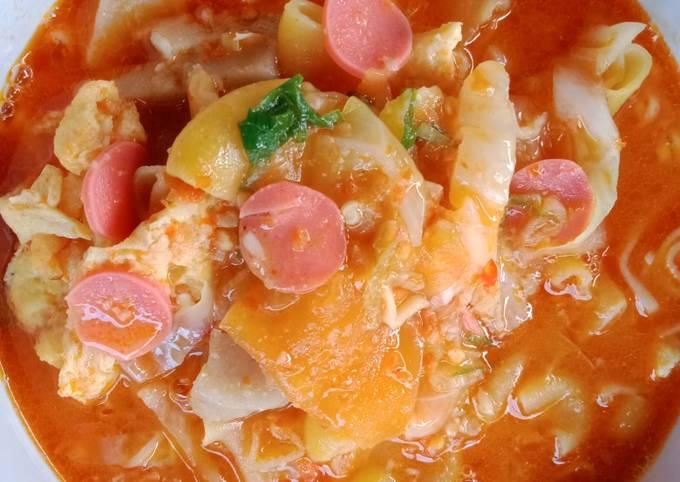seblak: (6, 1, 680, 482)
